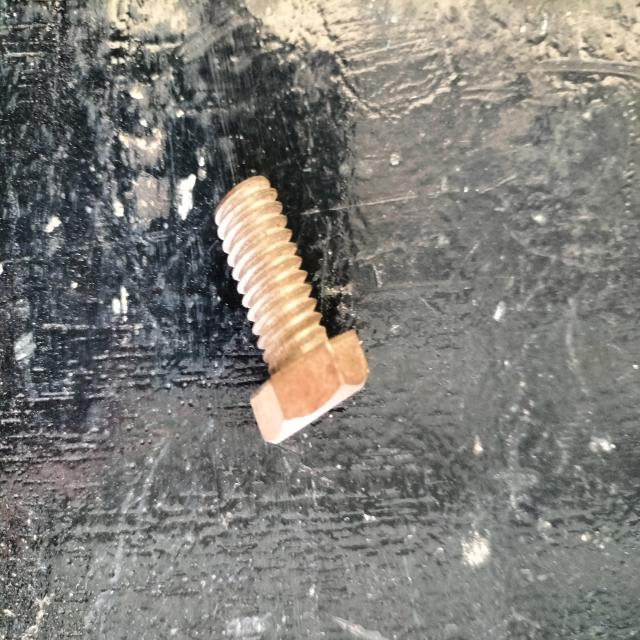bolt: (214, 176, 370, 444)
